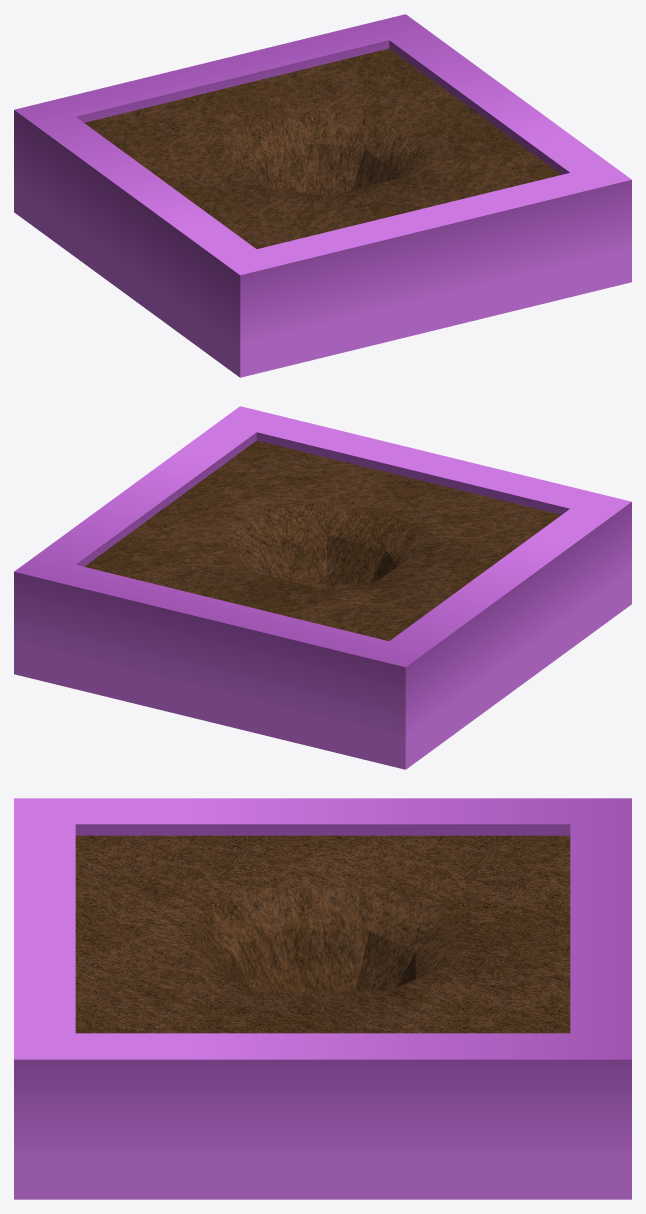
File: TILE_005_LossTramp.fbx
3 views of the same model, one above another, from view 1: azimuth 30°, elevation 25°; view 2: azimuth 150°, elevation 25°; view 3: azimuth 270°, elevation 25° (orthographic). The views are drawn at different scales.
Visible parts, largest first — view 1: TILE_001_LossTramp; view 2: TILE_001_LossTramp; view 3: TILE_001_LossTramp.
Boxes of the visible parts, <box> form: TILE_001_LossTramp: <box>14,14,631,377</box>; TILE_001_LossTramp: <box>14,406,631,769</box>; TILE_001_LossTramp: <box>14,798,631,1199</box>.
Bounding box in the file's own units: 98.43 × 24.61 × 98.43.
